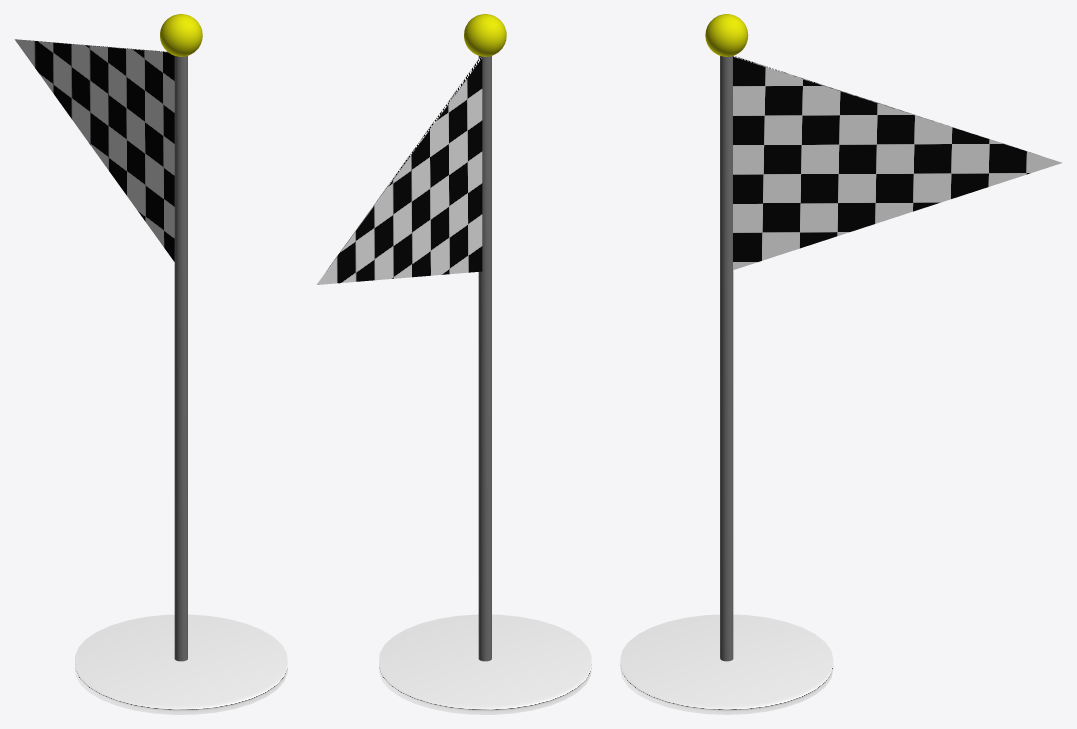
File: goal.fbx
3 renders of one model, left to right at view 1: azimuth 30°, elevation 25°; view 2: azimuth 150°, elevation 25°; view 3: azimuth 270°, elevation 25°, orthographic.
Parts seen in each view (by area): view 1: Cube, Cylinder, Cylinder.001, Sphere; view 2: Cube, Cylinder, Cylinder.001, Sphere; view 3: Cube, Cylinder, Cylinder.001, Sphere.
Boxes of the visible parts, bbox=[...] form: Cube: bbox=[14, 39, 174, 261]; Cylinder: bbox=[75, 614, 287, 714]; Cylinder.001: bbox=[174, 56, 187, 661]; Sphere: bbox=[160, 14, 202, 56]; Cube: bbox=[316, 57, 482, 284]; Cylinder: bbox=[379, 614, 591, 714]; Cylinder.001: bbox=[478, 56, 491, 661]; Sphere: bbox=[464, 14, 506, 56]; Cube: bbox=[733, 55, 1062, 269]; Cylinder: bbox=[620, 614, 833, 714]; Cylinder.001: bbox=[720, 56, 733, 661]; Sphere: bbox=[705, 14, 748, 56].
Size of the model in its own units: 20 by 67.72 by 41.53.
4 materials, 1 textured.
